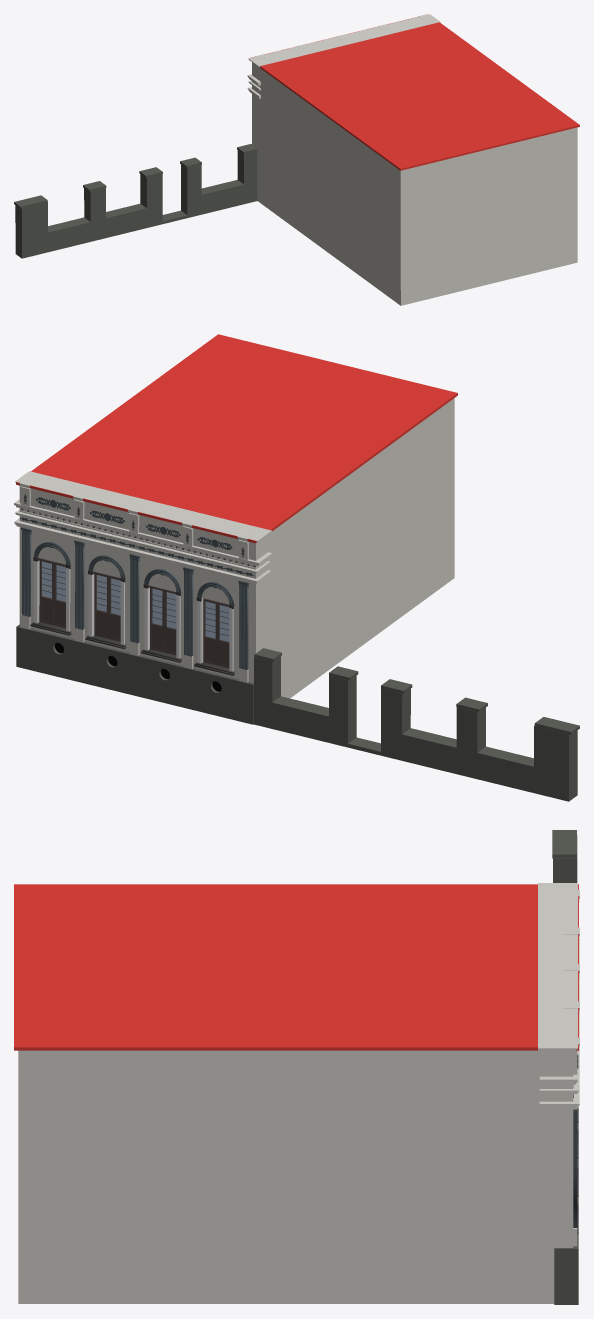
Rendered from praça1.glb.
3 views of the same model, one above another, from view 1: azimuth 30°, elevation 25°; view 2: azimuth 150°, elevation 25°; view 3: azimuth 270°, elevation 25° (orthographic). The views are drawn at different scales.
Visible parts, largest first — view 1: fachada 1, Cube.008, Cube.002, Cube.197, fachada estreita; view 2: Cube.008, fachada 1, Cube.002, fachada estreita, Cube.001, Colunas, Cube.197, Cube.013, Cube.150, Cube.011, Cube.005, Curve (+1 smaller); view 3: fachada 1, Cube.008, Cube.197, fachada estreita, Cube.001, Cube.214, Cube.002.
Part boxes in pixels (x1=…): fachada 1: x1=257, y1=66, x2=577, y2=305; Cube.008: x1=249, y1=14, x2=579, y2=170; Cube.002: x1=15, y1=150, x2=257, y2=258; Cube.197: x1=248, y1=14, x2=440, y2=67; fachada estreita: x1=252, y1=62, x2=258, y2=200; Cube.008: x1=16, y1=334, x2=457, y2=543; fachada 1: x1=263, y1=398, x2=454, y2=698; Cube.002: x1=254, y1=656, x2=577, y2=801; fachada estreita: x1=19, y1=485, x2=264, y2=682; Cube.001: x1=16, y1=624, x2=253, y2=724; Colunas: x1=22, y1=527, x2=248, y2=669; Cube.197: x1=15, y1=471, x2=271, y2=542; Cube.013: x1=14, y1=518, x2=271, y2=582; Cube.150: x1=30, y1=622, x2=234, y2=675; Cube.011: x1=14, y1=499, x2=272, y2=564; Cube.005: x1=15, y1=509, x2=270, y2=572; Curve: x1=36, y1=497, x2=232, y2=549; fachada 1: x1=18, y1=1050, x2=552, y2=1303; Cube.008: x1=14, y1=884, x2=578, y2=1050; Cube.197: x1=538, y1=883, x2=577, y2=1050; fachada estreita: x1=549, y1=1050, x2=573, y2=1303; Cube.001: x1=554, y1=1122, x2=578, y2=1304; Cube.214: x1=552, y1=830, x2=576, y2=858; Cube.002: x1=553, y1=835, x2=577, y2=882.
Bounding box in the file's own units: 28.35 × 9.01 × 17.86.
